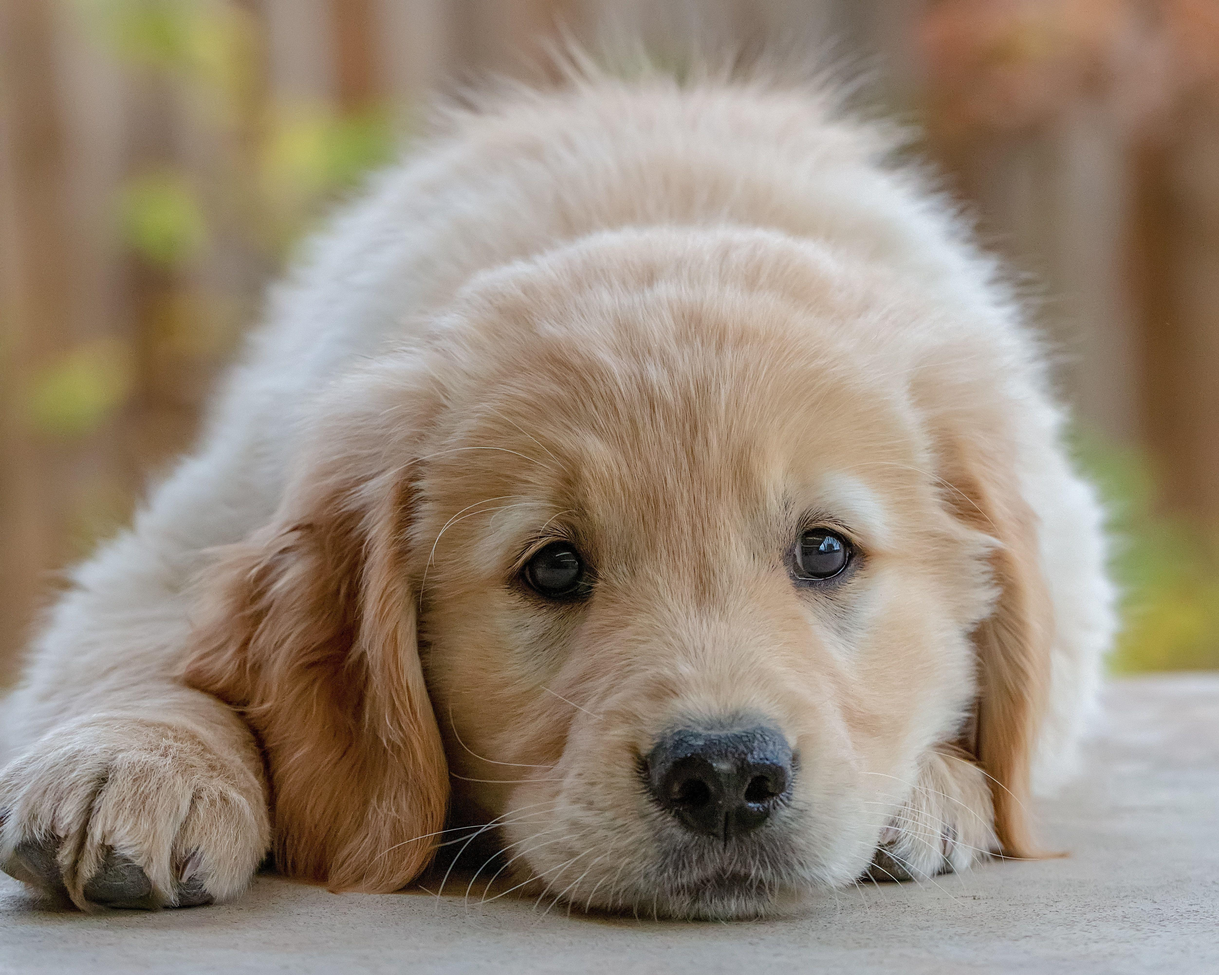puppy-dog: (0, 35, 1126, 925)
